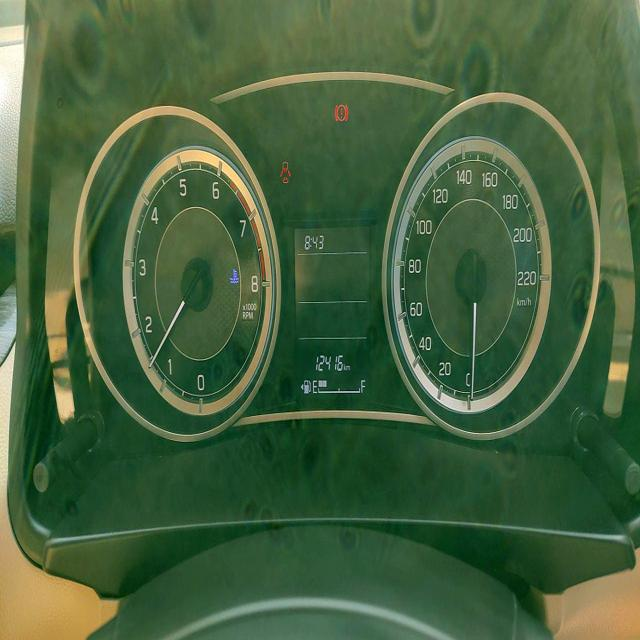odometer: (313, 351, 345, 376)
